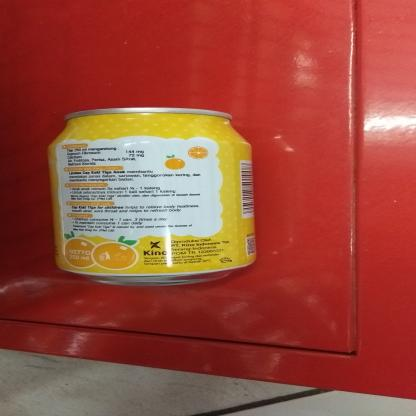can: (48, 103, 260, 291)
